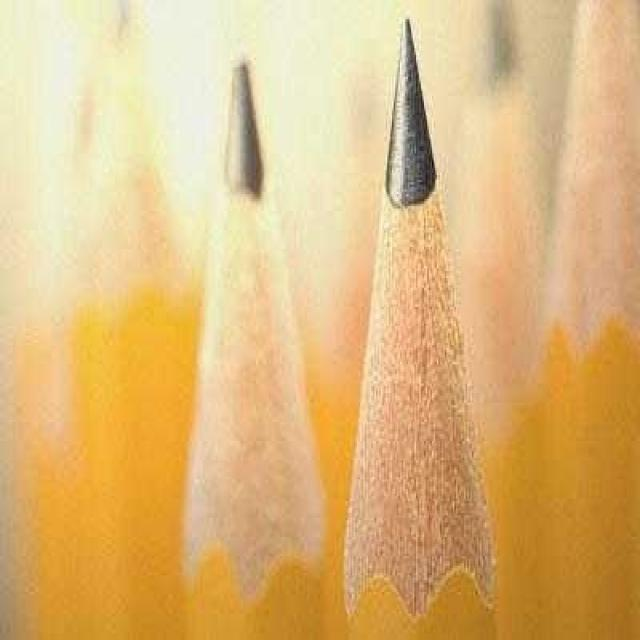pencil: (146, 64, 341, 640), (356, 12, 516, 640)
